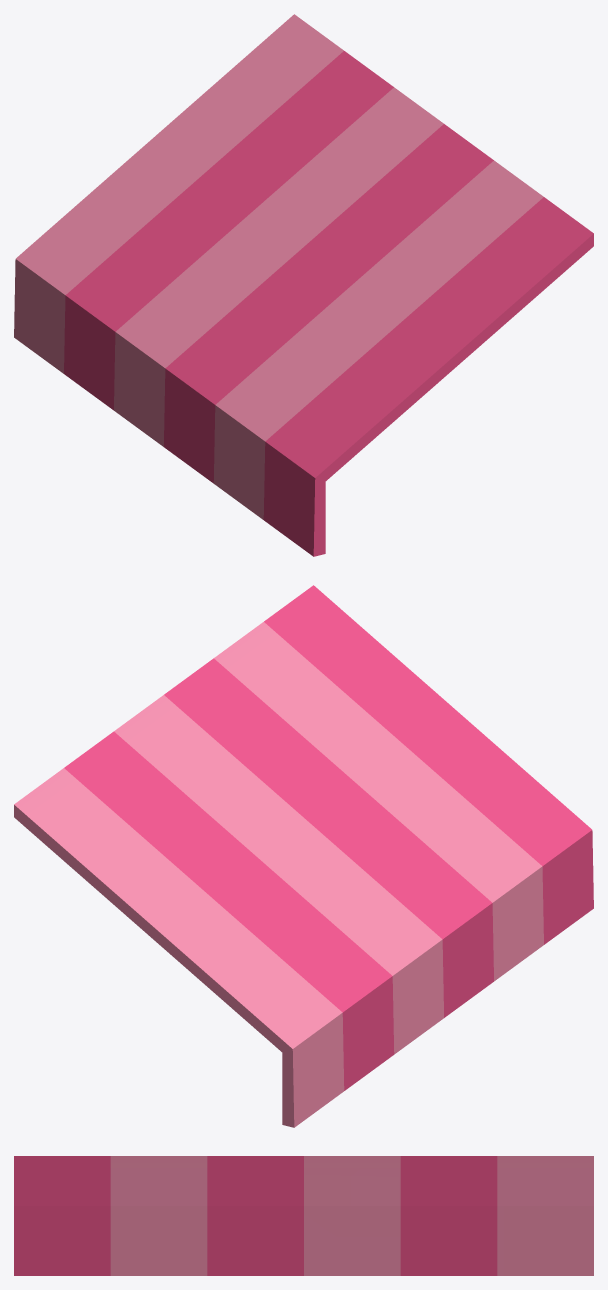
The model's file is Awning_2_C.fbx.
3 views of the same model, one above another, from view 1: azimuth 30°, elevation 25°; view 2: azimuth 150°, elevation 25°; view 3: azimuth 270°, elevation 25° (orthographic). The views are drawn at different scales.
Parts seen in each view (by area): view 1: Awning_2_C; view 2: Awning_2_C; view 3: Awning_2_C.
Part boxes in pixels (bbox=[...]): Awning_2_C: bbox=[14, 14, 593, 556]; Awning_2_C: bbox=[14, 585, 593, 1127]; Awning_2_C: bbox=[14, 1156, 593, 1275].
Size of the model in its own units: 111 by 96.45 by 205.
